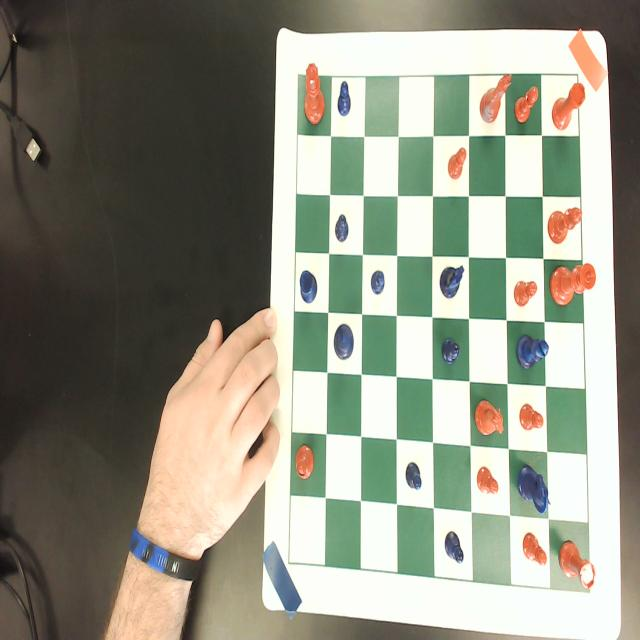B: (516, 333, 549, 373)
K: (334, 324, 354, 361)
N: (517, 464, 551, 516), (440, 263, 464, 299)
P: (444, 530, 464, 565), (336, 80, 352, 117), (442, 336, 461, 366), (404, 461, 422, 491), (334, 212, 349, 242), (371, 270, 385, 296)
R: (300, 270, 318, 305)
b: (548, 205, 582, 247), (295, 444, 315, 480)
cb: (289, 75, 589, 592)
k: (550, 262, 596, 307)
n: (478, 73, 513, 126), (474, 399, 504, 439)
p: (514, 84, 539, 125), (522, 531, 547, 568), (519, 402, 545, 434), (476, 464, 500, 496), (513, 278, 538, 308), (447, 147, 468, 181)
q: (304, 61, 325, 125)
r: (559, 541, 596, 590), (552, 81, 586, 132)
